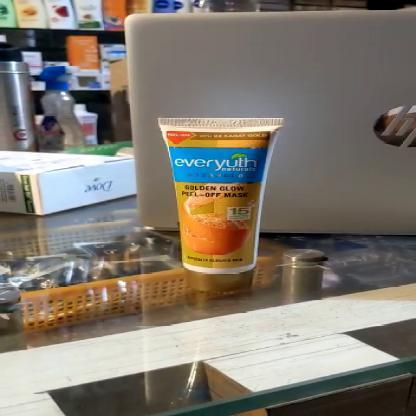EY ADVANCED GOLDEN GLOW PEEL OFF M- 90G: (151, 116, 285, 295)
